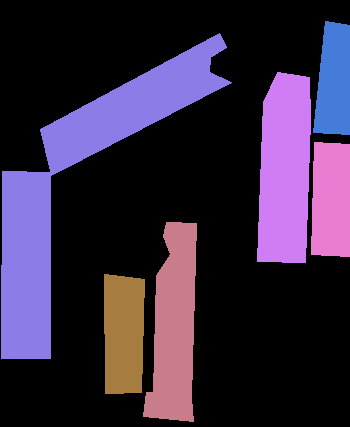parkingspot: (40, 33, 231, 175), (143, 222, 196, 421), (257, 72, 310, 262), (1, 171, 50, 358), (104, 274, 144, 393), (311, 142, 350, 256), (313, 21, 350, 134)
